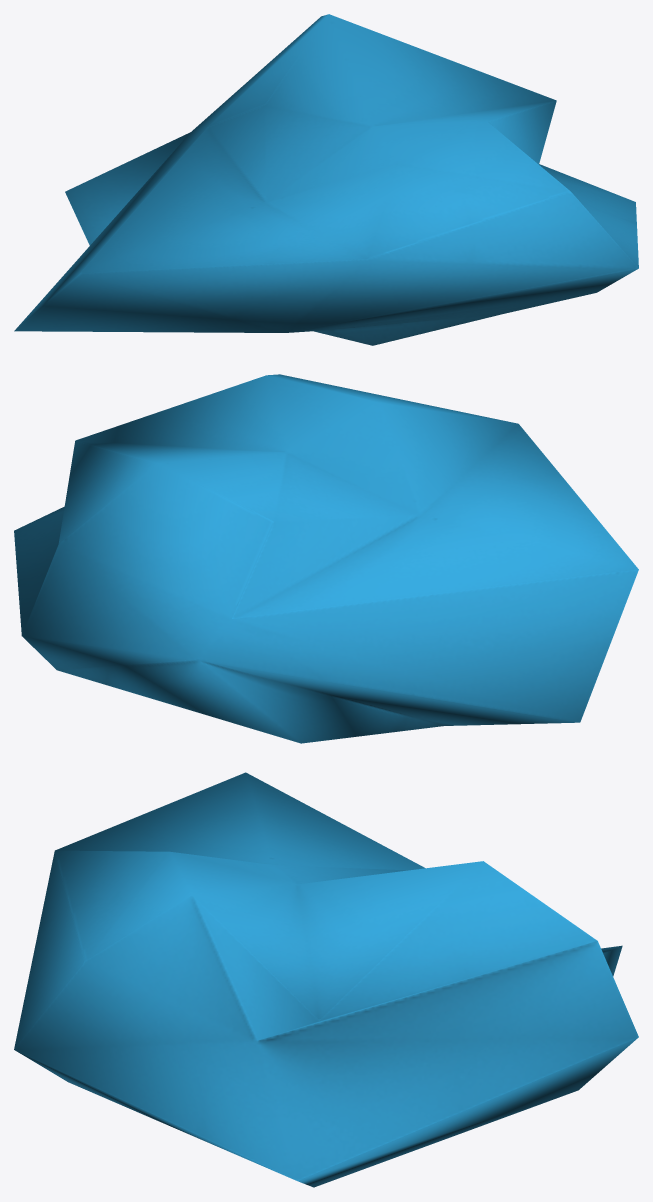
The model's file is pelletBlue.fbx.
3 renders of one model, top to bottom at view 1: azimuth 30°, elevation 25°; view 2: azimuth 150°, elevation 25°; view 3: azimuth 270°, elevation 25°, orthographic. The views are drawn at different scales.
Parts seen in each view (by area): view 1: pelletBlue; view 2: pelletBlue; view 3: pelletBlue.
Boxes of the visible parts, <box> form: pelletBlue: <box>14,14,638,345</box>; pelletBlue: <box>14,374,638,743</box>; pelletBlue: <box>14,772,638,1187</box>.
Size of the model in its own units: 0.2443 by 0.0904 by 0.2047.
1 material, 1 textured.
